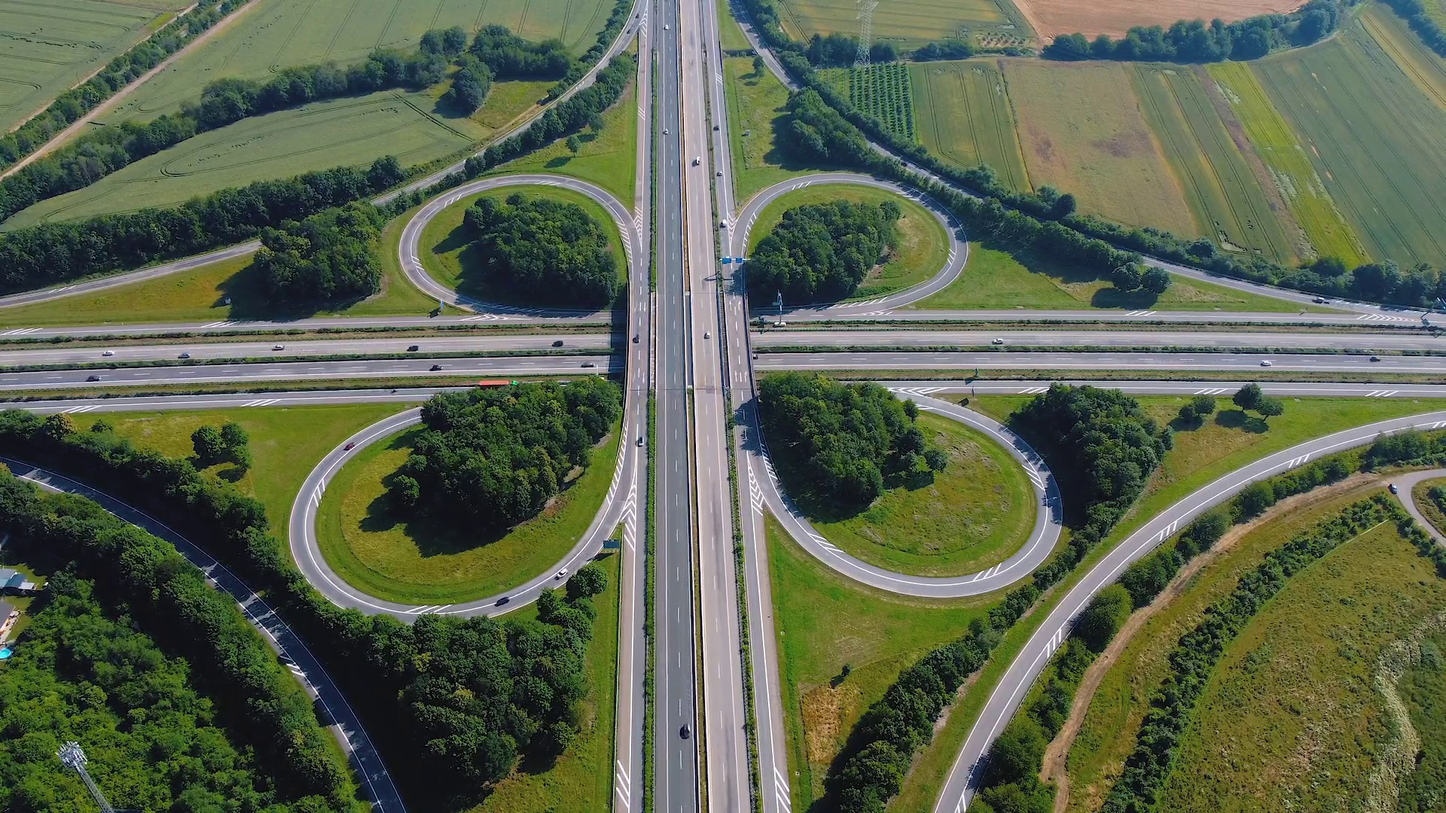Vehicle: (481, 381, 516, 387), (683, 722, 691, 739), (345, 440, 357, 451), (1387, 483, 1398, 494), (496, 597, 511, 605), (558, 568, 567, 580), (85, 375, 101, 381), (1312, 297, 1327, 303), (702, 330, 711, 340), (271, 345, 285, 351), (429, 365, 443, 371), (581, 362, 594, 368), (635, 331, 642, 342), (178, 353, 190, 359), (407, 345, 419, 351), (992, 338, 1004, 344), (637, 437, 644, 447), (1370, 356, 1381, 362), (552, 341, 563, 347), (102, 351, 114, 356), (1260, 361, 1272, 366), (696, 156, 701, 166), (722, 220, 729, 227), (752, 354, 759, 360), (717, 169, 723, 175), (713, 124, 718, 129), (664, 25, 669, 30), (664, 129, 669, 134), (628, 29, 632, 33), (637, 13, 640, 17)
